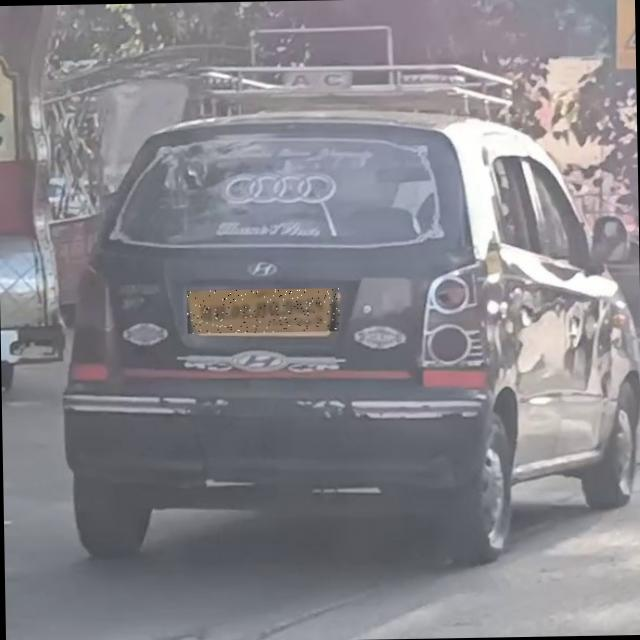Plate: (188, 289, 341, 335)
